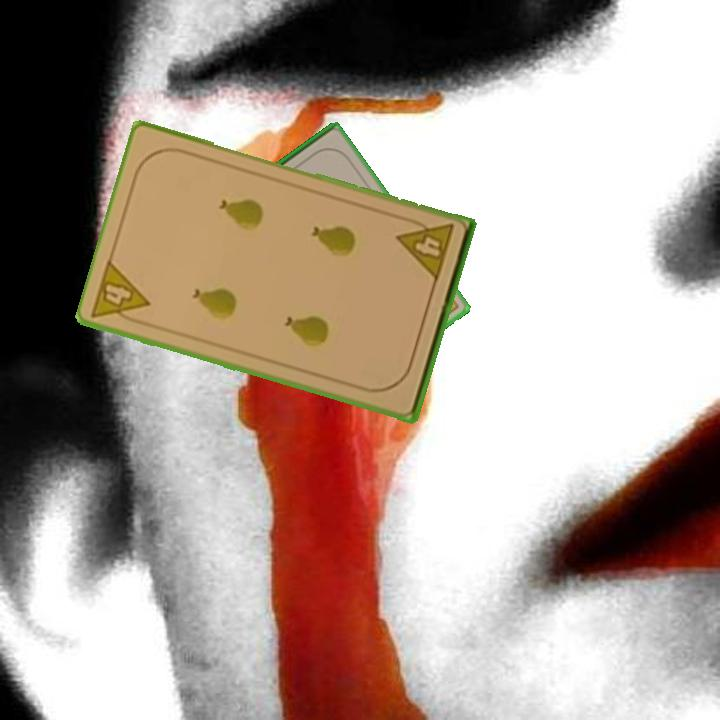4p: (88, 256, 153, 330), (394, 214, 456, 284)
